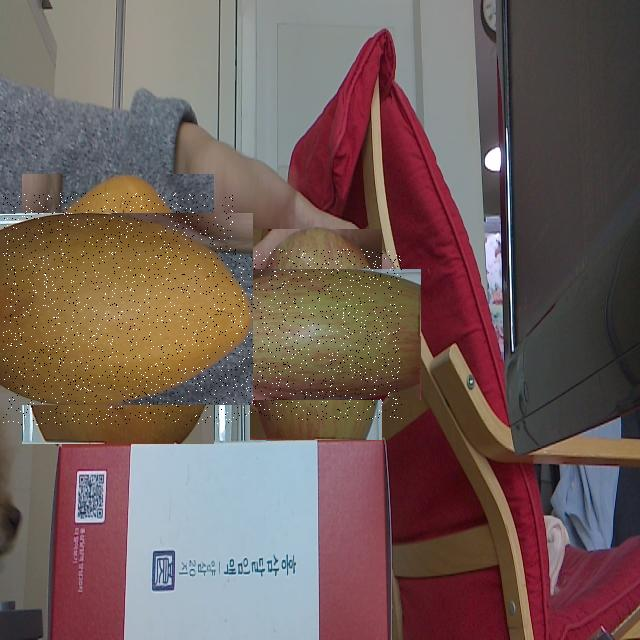apple: (230, 249, 402, 420)
pear: (3, 193, 233, 425)
